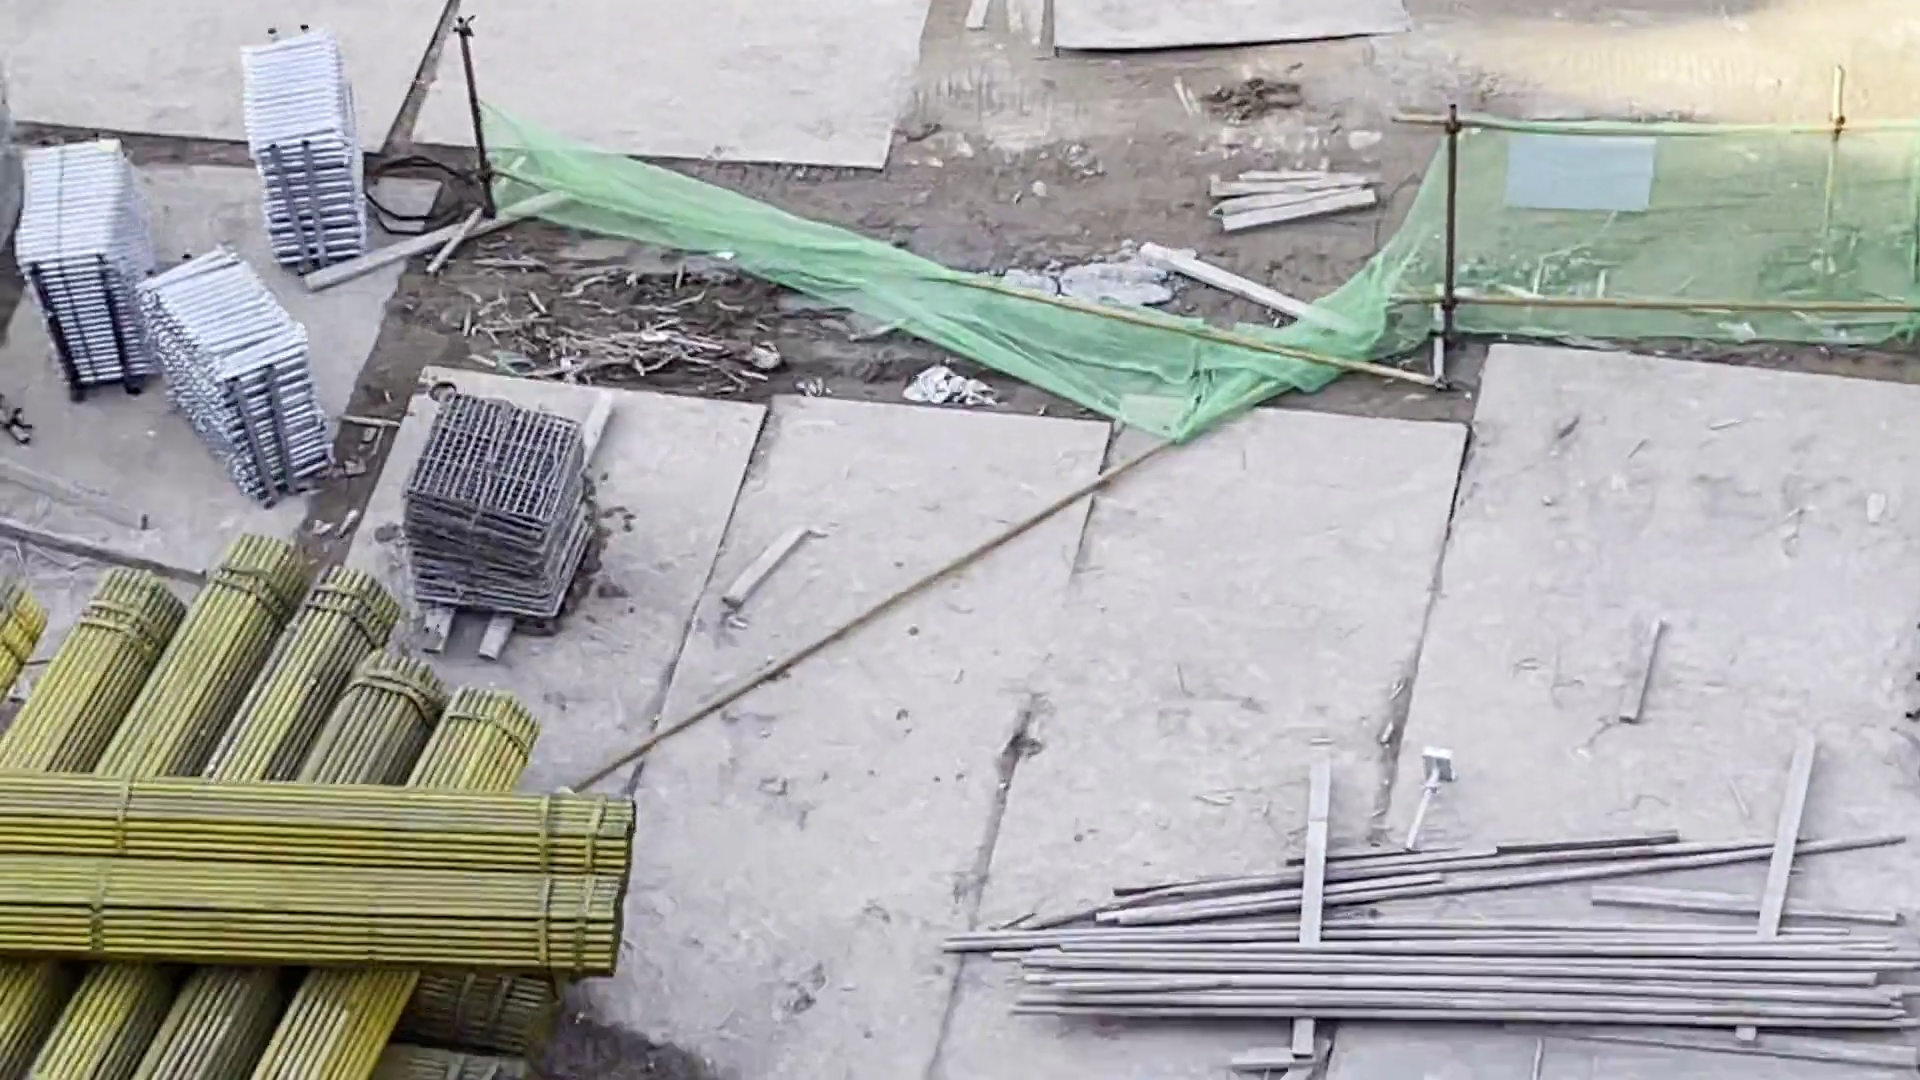scaffold: (117, 224, 334, 504), (11, 115, 158, 393), (251, 47, 363, 256)
